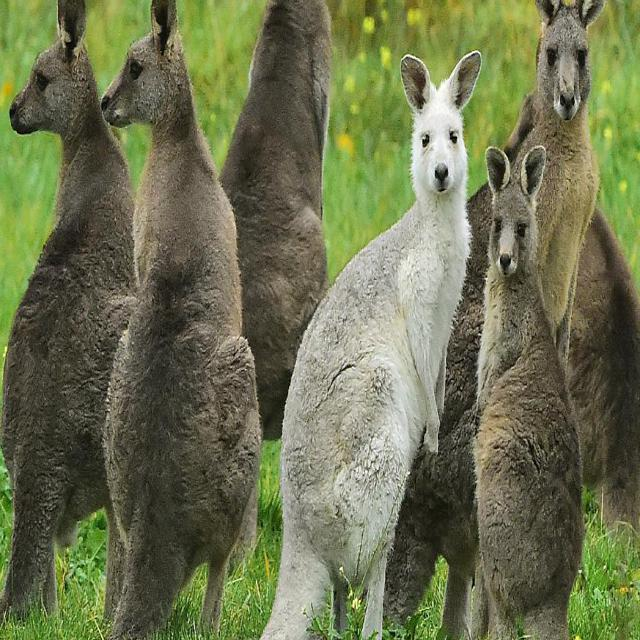kangaroo: (265, 47, 485, 640), (107, 2, 261, 636), (8, 2, 106, 554), (479, 145, 585, 633), (515, 1, 602, 143)
